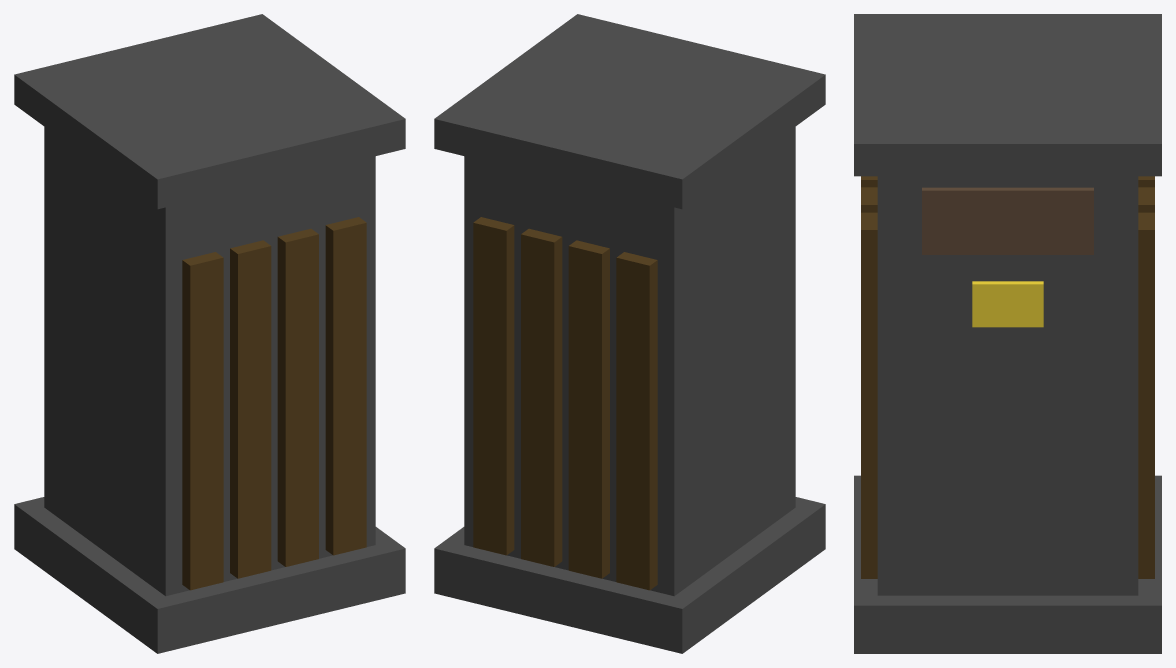
Rendered from bin.fbx.
3 renders of one model, left to right at view 1: azimuth 30°, elevation 25°; view 2: azimuth 150°, elevation 25°; view 3: azimuth 270°, elevation 25°, orthographic. The views are drawn at different scales.
Visible parts, largest first — view 1: bin.002; view 2: bin.002; view 3: bin.002.
Part boxes in pixels (bbox=[...]): bin.002: bbox=[14, 14, 405, 653]; bin.002: bbox=[434, 14, 825, 653]; bin.002: bbox=[854, 14, 1161, 653].
Bounding box in the file's own units: 0.52 × 0.95 × 0.52.
